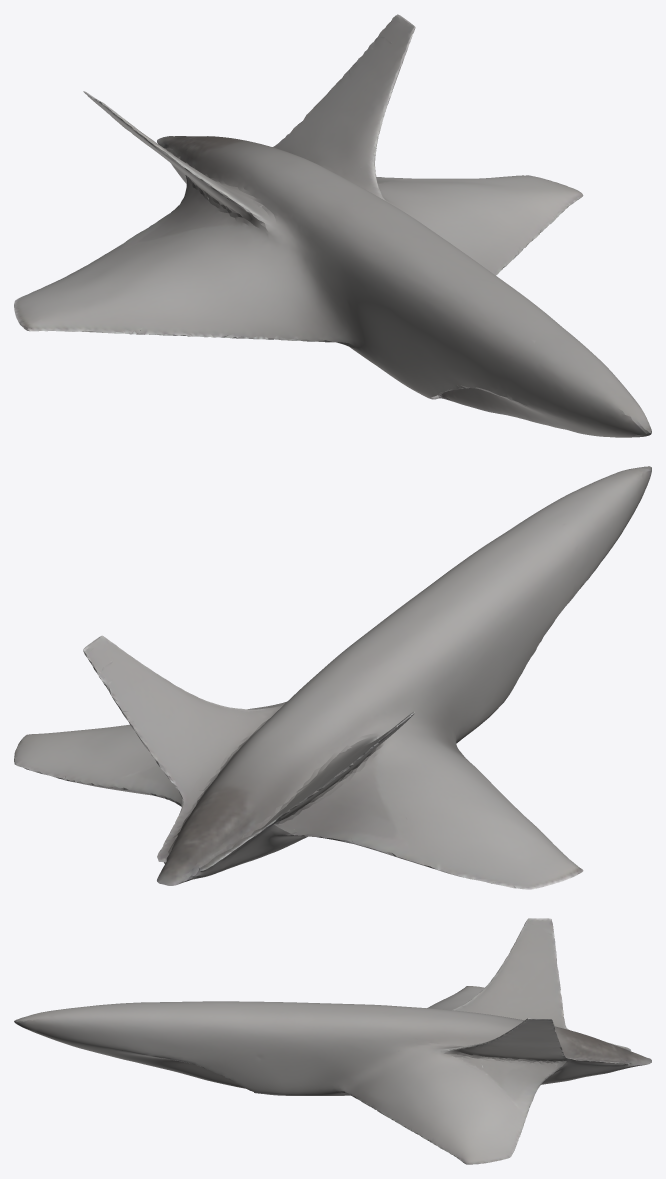
File: falcon_tail.glb
3 views of the same model, one above another, from view 1: azimuth 30°, elevation 25°; view 2: azimuth 150°, elevation 25°; view 3: azimuth 270°, elevation 25° (orthographic). The views are drawn at different scales.
Visible parts, largest first — view 1: falcon_tail; view 2: falcon_tail; view 3: falcon_tail.
Boxes of the visible parts, x1,y1,x2,y2 form: falcon_tail: (14, 14, 651, 437); falcon_tail: (14, 466, 651, 889); falcon_tail: (14, 918, 651, 1164).
Size of the model in its own units: 1.25 by 0.3812 by 1.89.
1 material, 1 textured.
